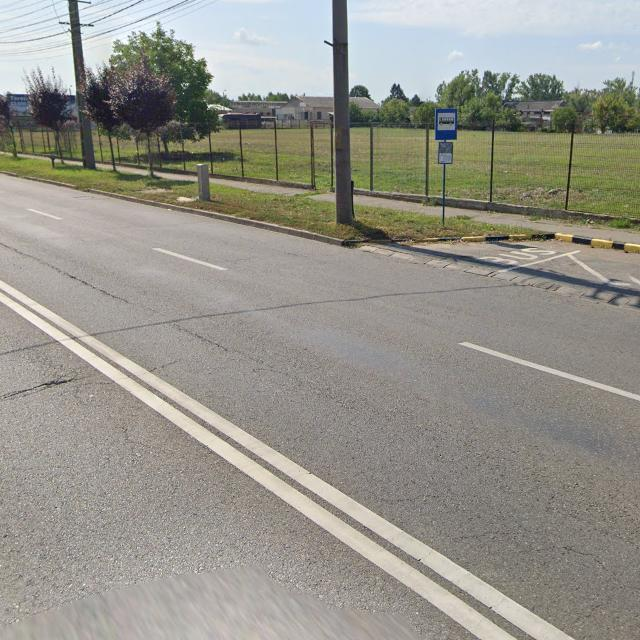info_bus_station: (435, 108, 457, 140)
